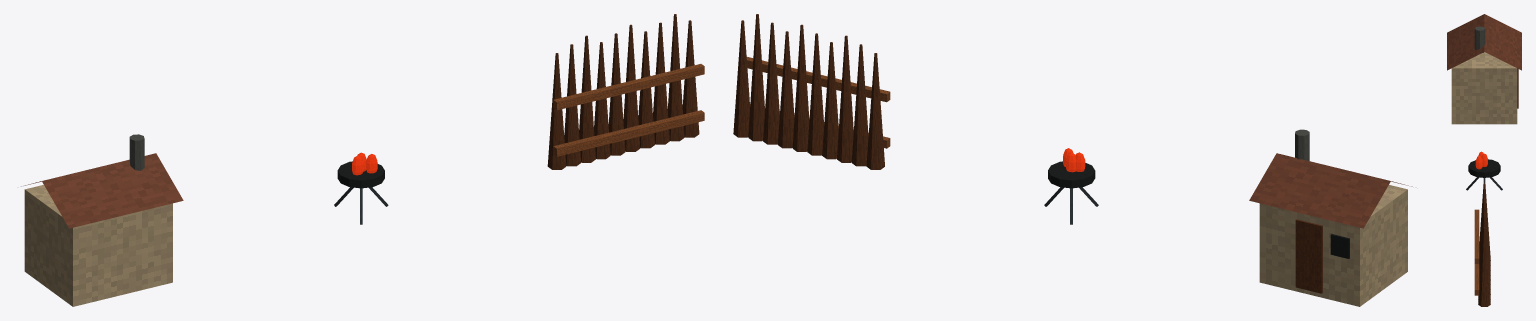
The model's file is KIT_broken_compact_settlement.gltf.
The picture shows the model from 3 angles, left to right: view 1: azimuth 30°, elevation 25°; view 2: azimuth 150°, elevation 25°; view 3: azimuth 270°, elevation 25°; orthographic projection. The views are drawn at different scales.
Parts seen in each view (by area): view 1: 01_house, 03_palisade, 02_brazier; view 2: 01_house, 03_palisade, 02_brazier; view 3: 01_house, 03_palisade, 02_brazier.
Part boxes in pixels (box(x1,y1,x2,y2)): 01_house: box(21, 134, 183, 306); 03_palisade: box(547, 14, 704, 169); 02_brazier: box(334, 152, 388, 224); 01_house: box(1249, 129, 1412, 306); 03_palisade: box(733, 14, 890, 169); 02_brazier: box(1044, 148, 1098, 224); 01_house: box(1447, 14, 1521, 124); 03_palisade: box(1474, 183, 1490, 306); 02_brazier: box(1466, 151, 1502, 190).
Size of the model in its own units: 13.75 by 2.7 by 2.
8 materials, 8 textured.
